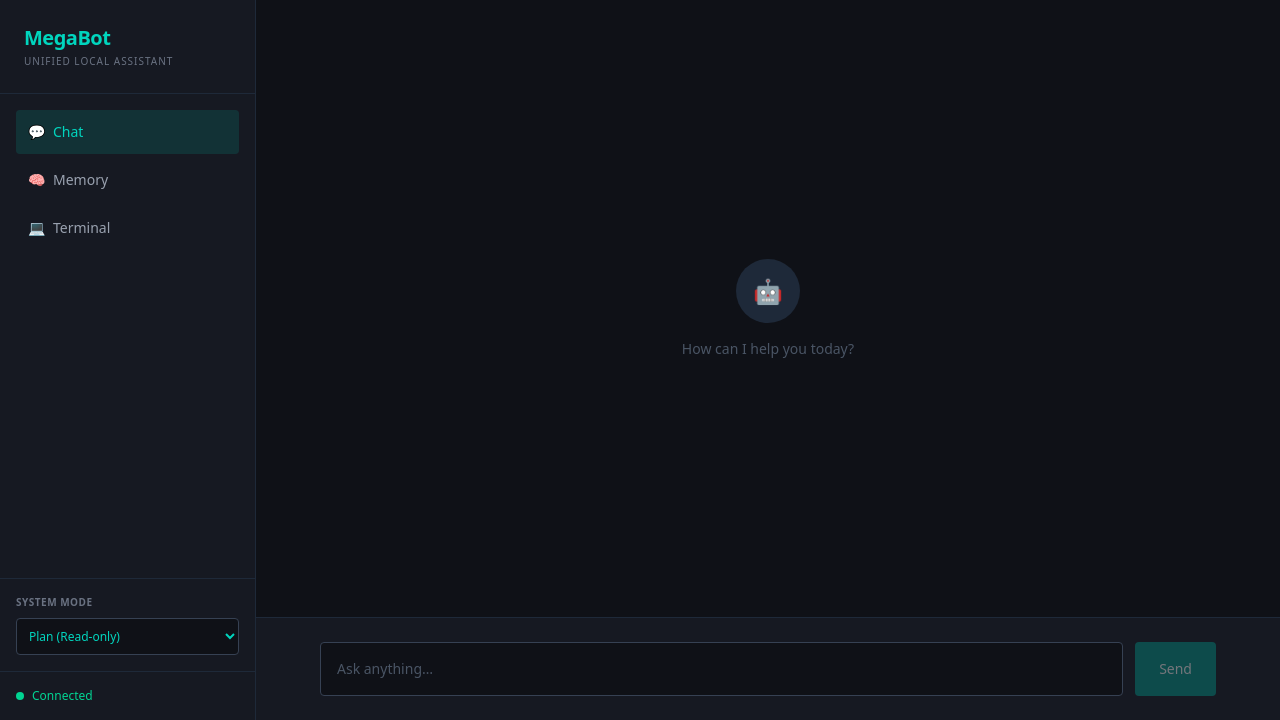
Test case: App Component › sends terminal commands
The width and height of the screenshot is (1280, 720).
Click the button "💻Terminal" at (128, 228), box [16,206,239,250]
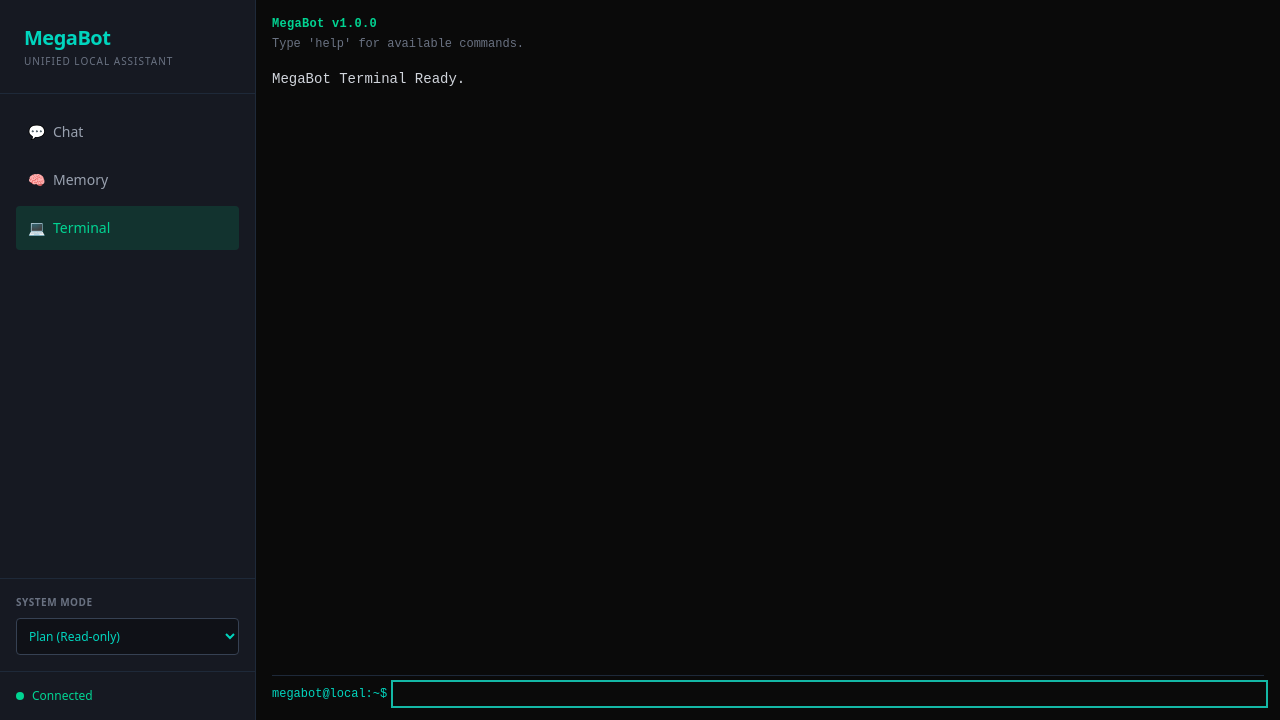
Type "help" into the field named "Terminal command input" at (830, 694), box [395,684,1264,704]
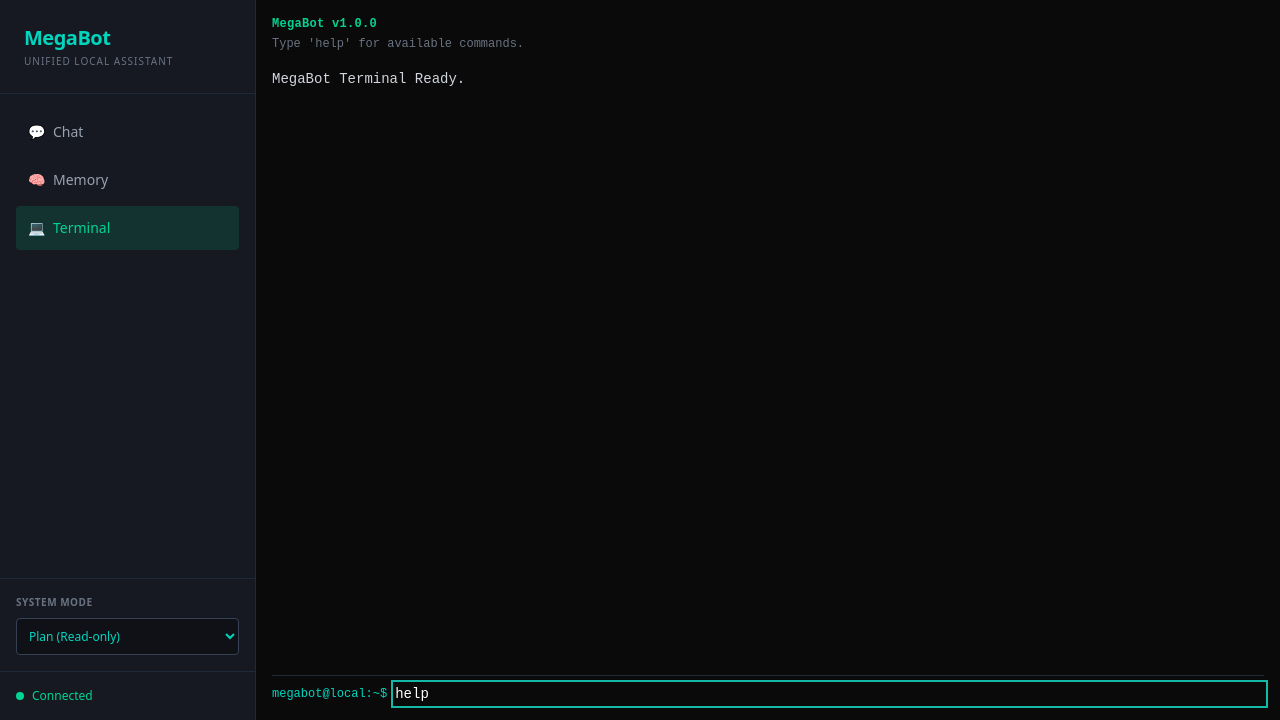
Press Enter in the field named "Terminal command input", box [395,684,1264,704]
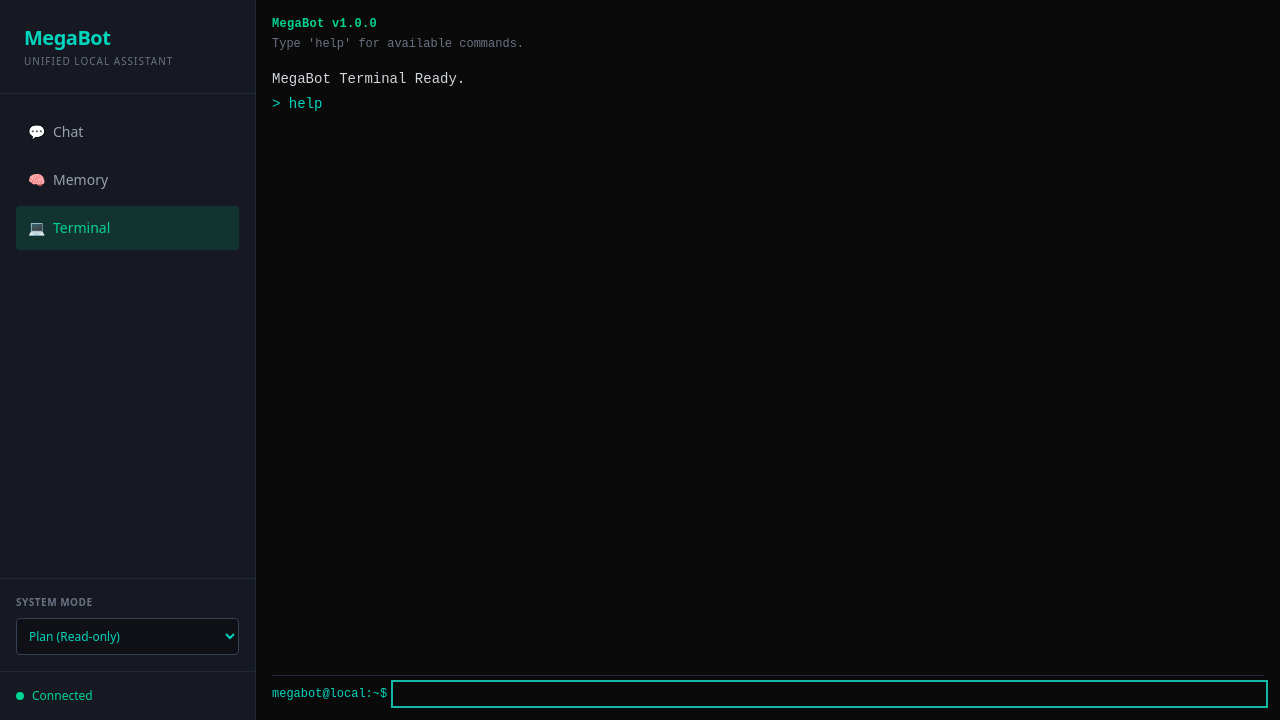
Expected: the text "> help" is shown, [272,96,322,112]
